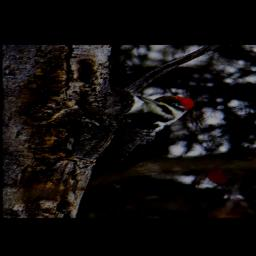Woodpecker: (93, 94, 199, 178)
